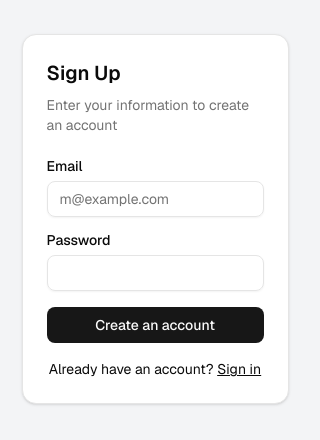
Test: Register Page (Use Case 1) › should show a generic error for other auth failures (TS-1.5, TS-1.6)
Note: Test Steps
Step 1. Type "newuser@test.com" into the field labelled "Email" → (155, 199), box [46,181,264,217]
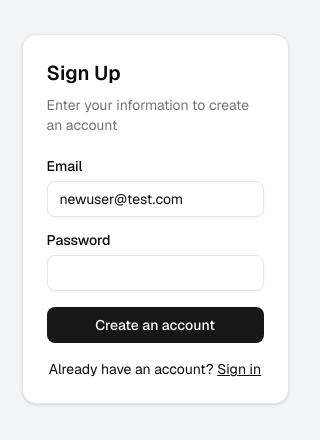
Note: Test Step: Submit
Step 2. Submit the form "Email Password Create an account", box [46,159,264,343]
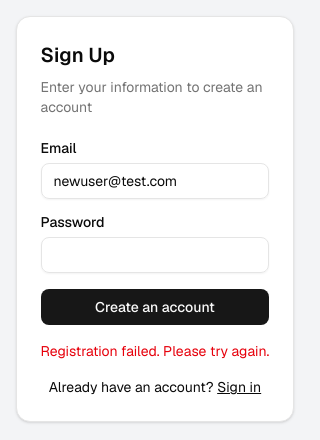
Expected: the text "Registration failed. Please try again." is shown, [40,341,269,361]
